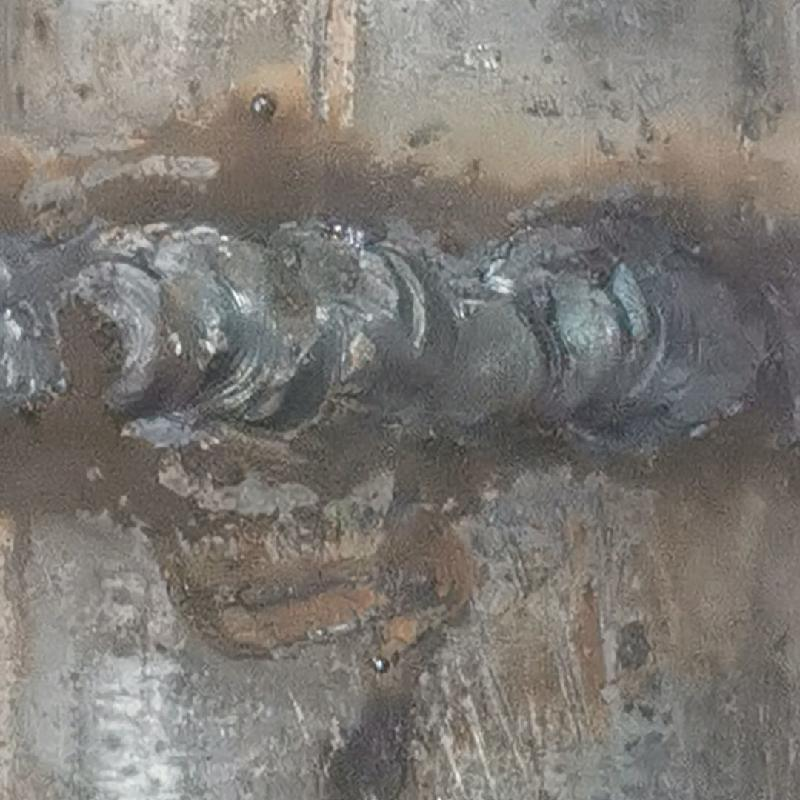good: (2, 224, 799, 439)
